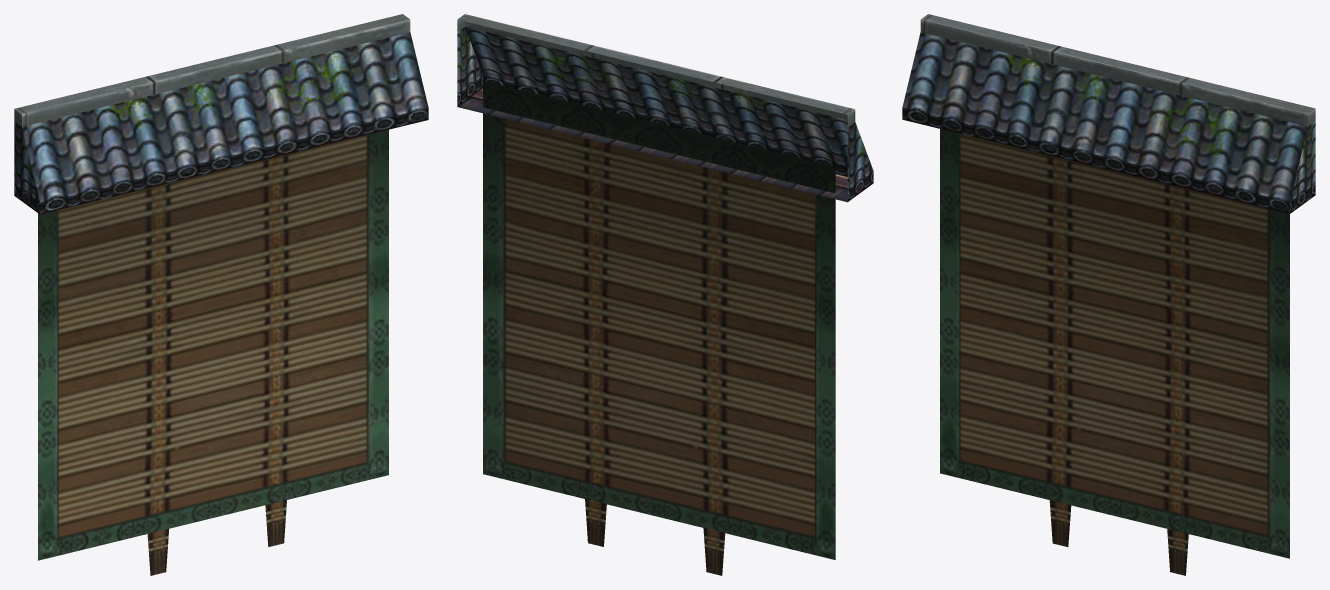
The model's file is YZC_MJ_AZ_04.FBX.
3 renders of one model, left to right at view 1: azimuth 30°, elevation 25°; view 2: azimuth 150°, elevation 25°; view 3: azimuth 330°, elevation 25°, orthographic.
Visible parts, largest first — view 1: YZC_MJ_AZ_04; view 2: YZC_MJ_AZ_04; view 3: YZC_MJ_AZ_04.
Part boxes in pixels (x1=…): YZC_MJ_AZ_04: x1=14, y1=14, x2=428, y2=575; YZC_MJ_AZ_04: x1=457, y1=14, x2=873, y2=575; YZC_MJ_AZ_04: x1=902, y1=14, x2=1315, y2=575.
Bounding box in the file's own units: 91.06 × 111 × 10.5.
